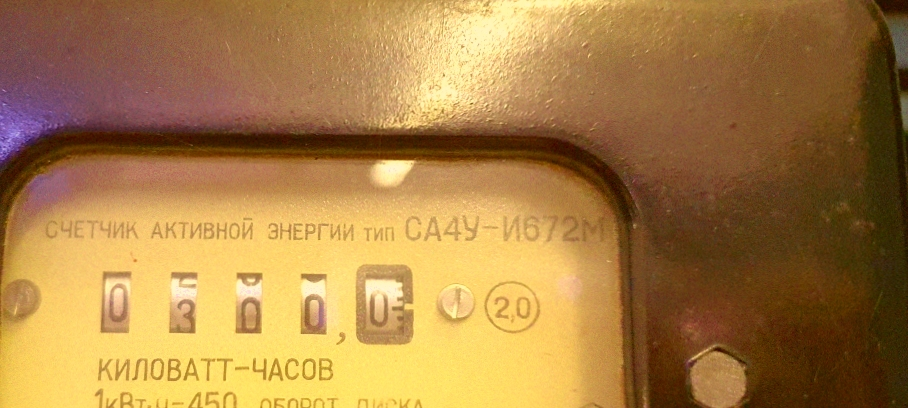0: (301, 290, 327, 334), (365, 286, 390, 329), (106, 279, 129, 325), (237, 294, 261, 335)
3: (173, 295, 196, 334)
screen: (79, 246, 433, 362)
